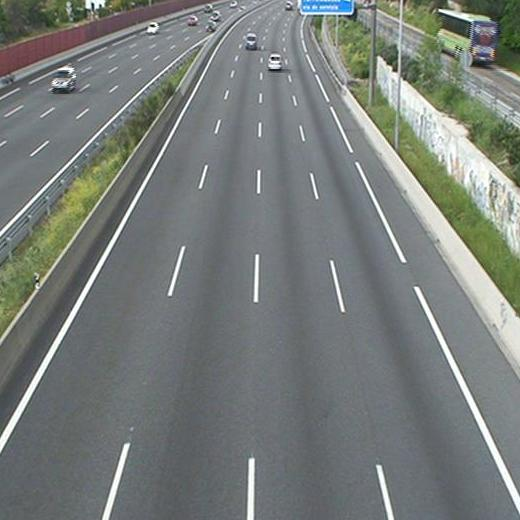car: (268, 54, 283, 70), (245, 34, 257, 48), (284, 2, 293, 10)
